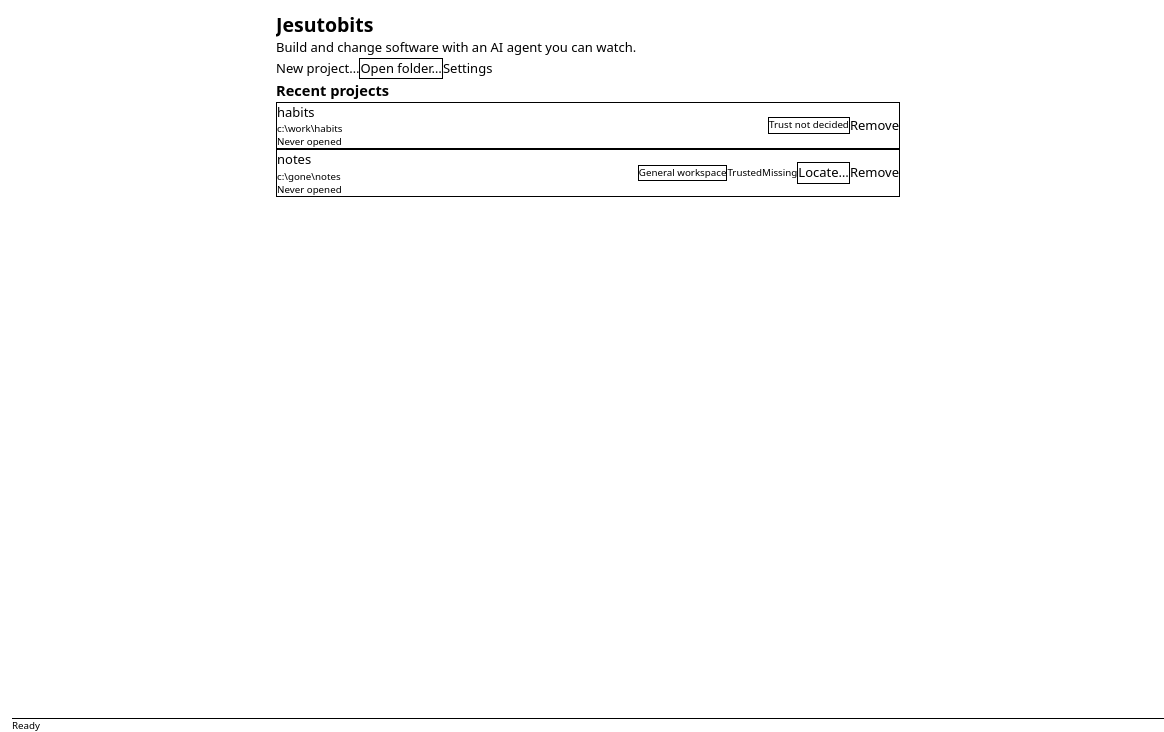
StartScreen › removes a project from the list without touching its folder
This screenshot has width=1164, height=732.
Click the button with aria-label "Remove notes from recent projects" at (874, 173), box [850,163,899,183]
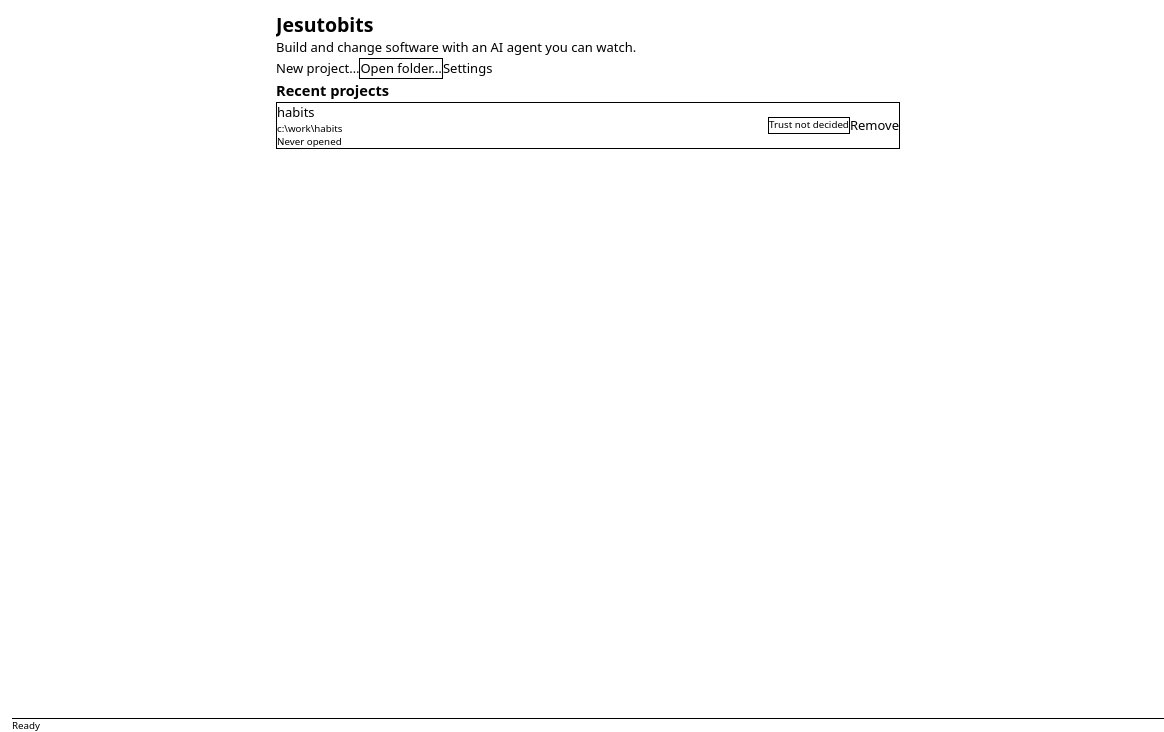
expect the number of list items is 1: met, box [276,102,900,149]
